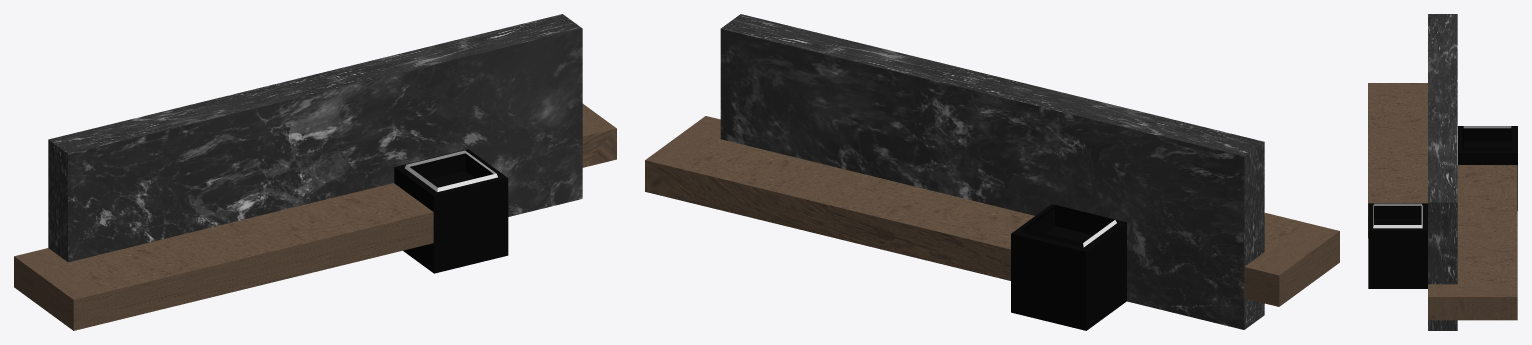
Rendered from seat-wall.gltf.
The picture shows the model from 3 angles, left to right: view 1: azimuth 30°, elevation 25°; view 2: azimuth 150°, elevation 25°; view 3: azimuth 270°, elevation 25°; orthographic projection. The views are drawn at different scales.
Visible parts, largest first — view 1: Cube.008, Cube.009; view 2: Cube.008, Cube.010; view 3: Cube.008, Cube.009, Cube.010.
Boxes of the visible parts, left/top/right/bottom form: Cube.008: left=14, top=14, right=616, bottom=330; Cube.009: left=394, top=149, right=508, bottom=273; Cube.008: left=645, top=14, right=1339, bottom=329; Cube.010: left=1011, top=204, right=1126, bottom=330; Cube.008: left=1368, top=14, right=1517, bottom=330; Cube.009: left=1368, top=203, right=1427, bottom=288; Cube.010: left=1458, top=126, right=1517, bottom=210.
Bounding box in the file's own units: 3.4 × 0.95 × 1.01.
Materials: 4 (2 with a texture image).
